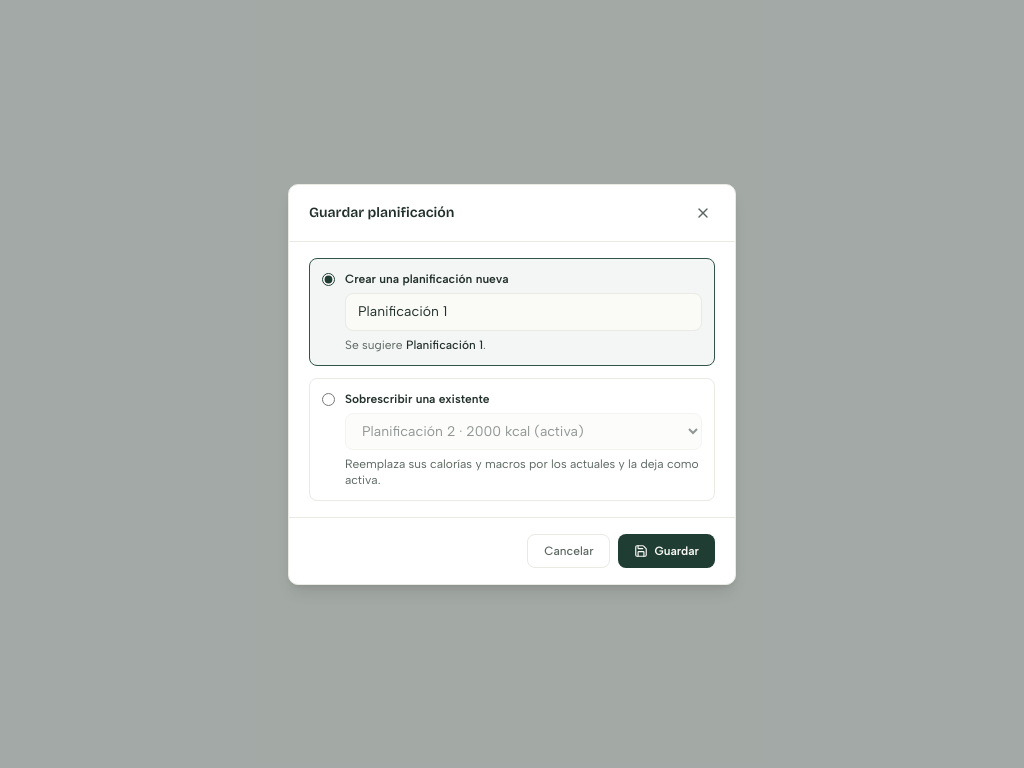
Scenario: SavePlanificacionModal › confirmación — sobrescribir existente › en modo sobrescribir el botón cambia su etiqueta a "Sobrescribir"
The image size is (1024, 768).
Click the 2nd radio button at {"x": 328, "y": 399}, box [322, 392, 335, 406]
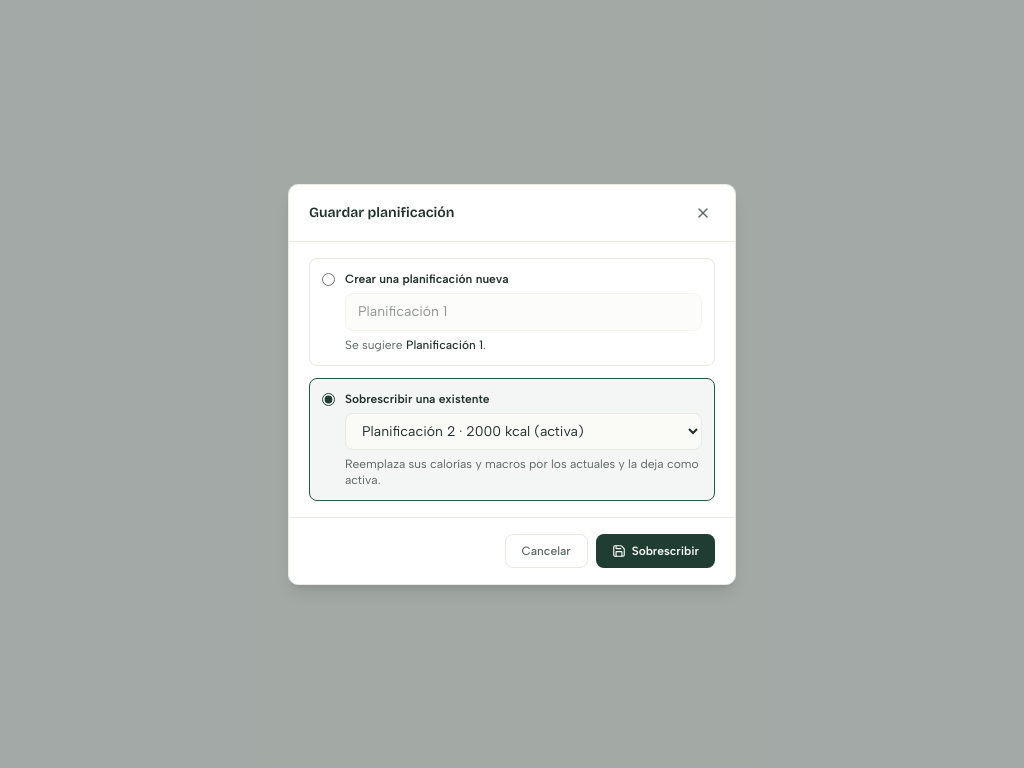
Check: the button "Sobrescribir" is shown, box [596, 534, 715, 568]
